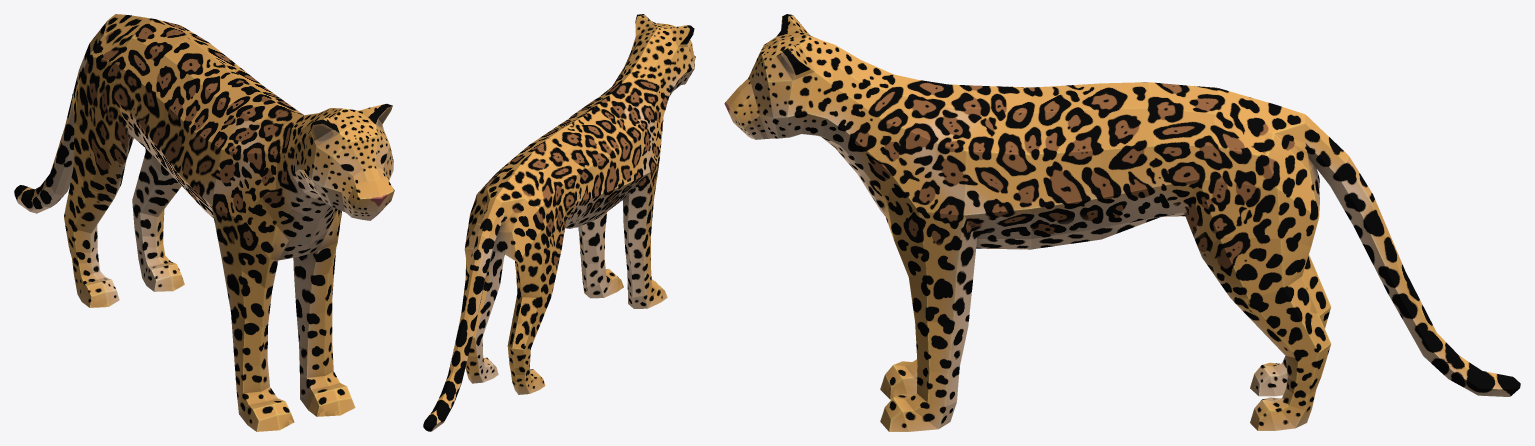
The model's file is jaguar.fbx.
The picture shows the model from 3 angles, left to right: view 1: azimuth 30°, elevation 25°; view 2: azimuth 150°, elevation 25°; view 3: azimuth 270°, elevation 25°; orthographic projection. The views are drawn at different scales.
Parts seen in each view (by area): view 1: Jaguar; view 2: Jaguar; view 3: Jaguar.
Boxes of the visible parts, x1,y1,x2,y2 form: Jaguar: (14, 14, 394, 431); Jaguar: (423, 14, 695, 431); Jaguar: (724, 14, 1520, 431).
Bounding box in the file's own units: 127 × 345 × 667.
